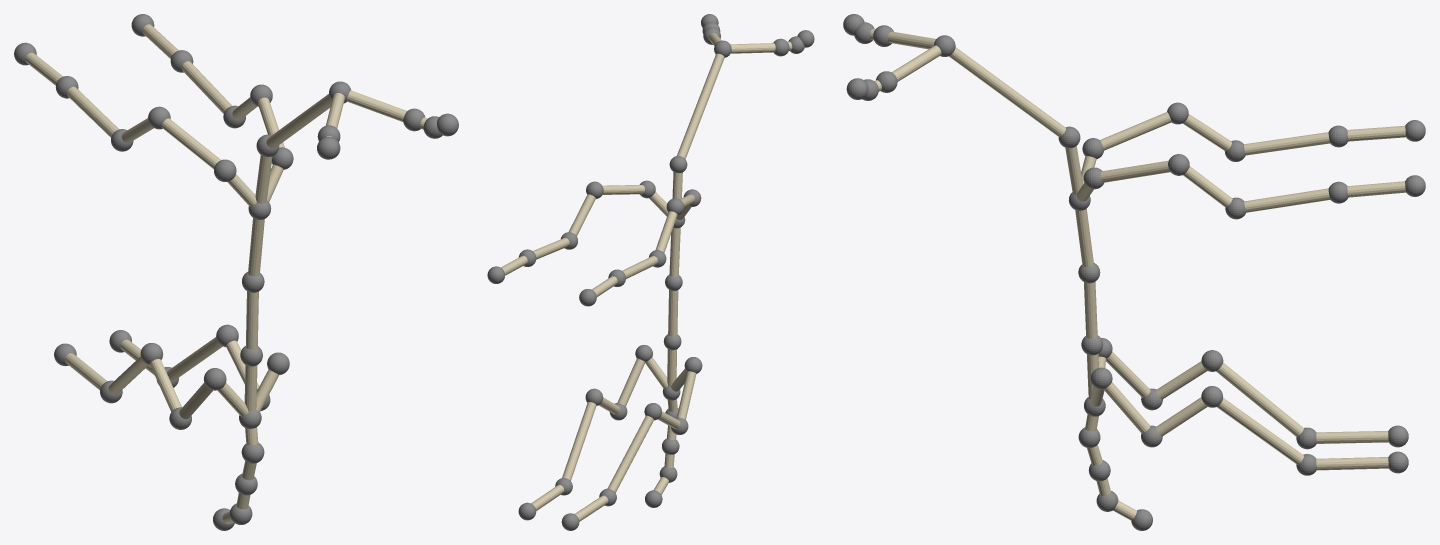
The picture shows the model from 3 angles, left to right: view 1: azimuth 30°, elevation 25°; view 2: azimuth 150°, elevation 25°; view 3: azimuth 270°, elevation 25°; orthographic projection. The views are drawn at different scales.
Parts seen in each view (by area): view 1: world; view 2: world; view 3: world.
Part boxes in pixels (x1,y1,x2,y2): world: [14, 14, 458, 530]; world: [487, 14, 814, 530]; world: [843, 14, 1425, 530].
Bounding box in the file's own units: 0.2327 × 0.7561 × 0.7985.
